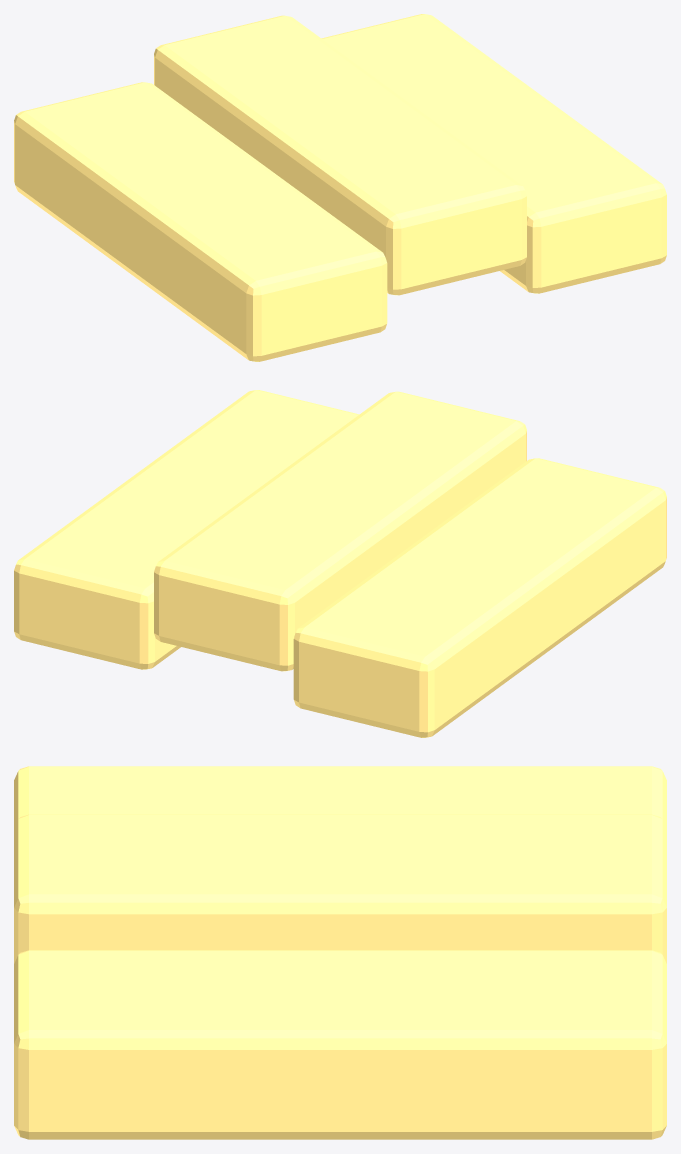
Rendered from SM_UI_MapIcon.fbx.
The picture shows the model from 3 angles, top to bottom: view 1: azimuth 30°, elevation 25°; view 2: azimuth 150°, elevation 25°; view 3: azimuth 270°, elevation 25°; orthographic projection. The views are drawn at different scales.
Visible parts, largest first — view 1: SM_UI_MapIcon; view 2: SM_UI_MapIcon; view 3: SM_UI_MapIcon.
Part boxes in pixels (x1,y1,x2,y2): SM_UI_MapIcon: (14,14,666,361); SM_UI_MapIcon: (14,390,666,737); SM_UI_MapIcon: (14,766,666,1139).
Size of the model in its own units: 0.65 by 0.168 by 0.65.
